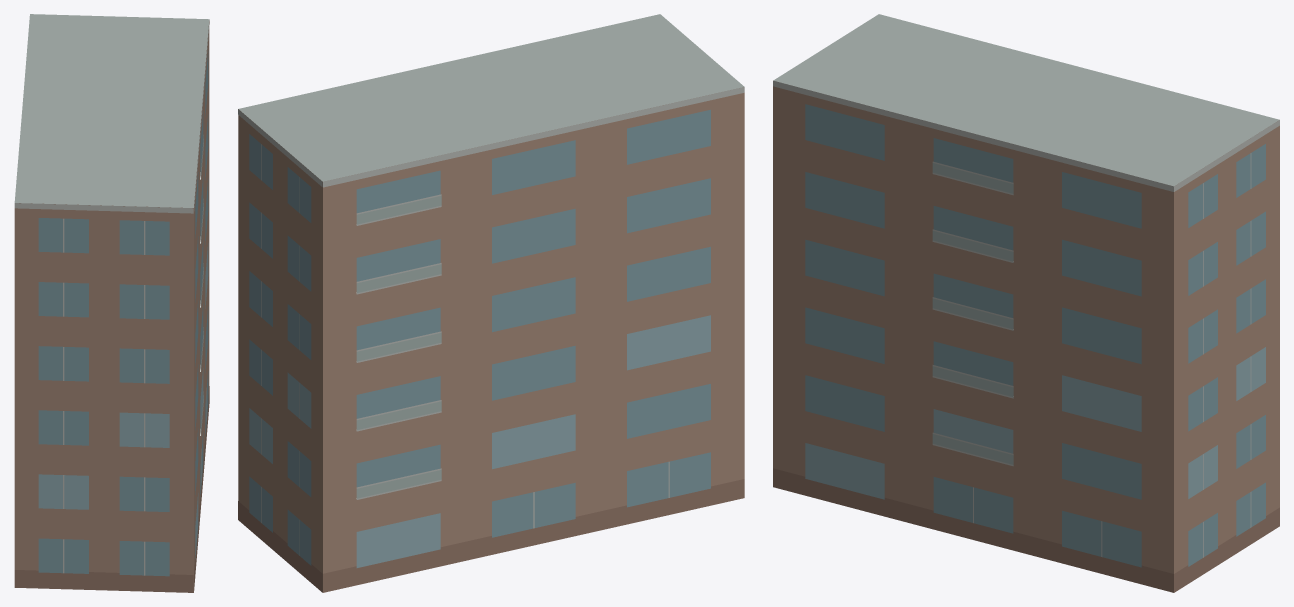
Rendered from survey-upis-32752321.glb.
3 views of the same model, side by side, from view 1: azimuth 30°, elevation 25°; view 2: azimuth 150°, elevation 25°; view 3: azimuth 270°, elevation 25° (orthographic). The views are drawn at different scales.
Visible parts, largest first — view 1: survey-upis-32752321.tmp; view 2: survey-upis-32752321.tmp; view 3: survey-upis-32752321.tmp.
Part boxes in pixels (x1,y1,x2,y2): survey-upis-32752321.tmp: (14, 14, 209, 592); survey-upis-32752321.tmp: (238, 14, 744, 592); survey-upis-32752321.tmp: (773, 14, 1279, 592).
Bounding box in the file's own units: 15.65 × 17.2 × 19.44.
